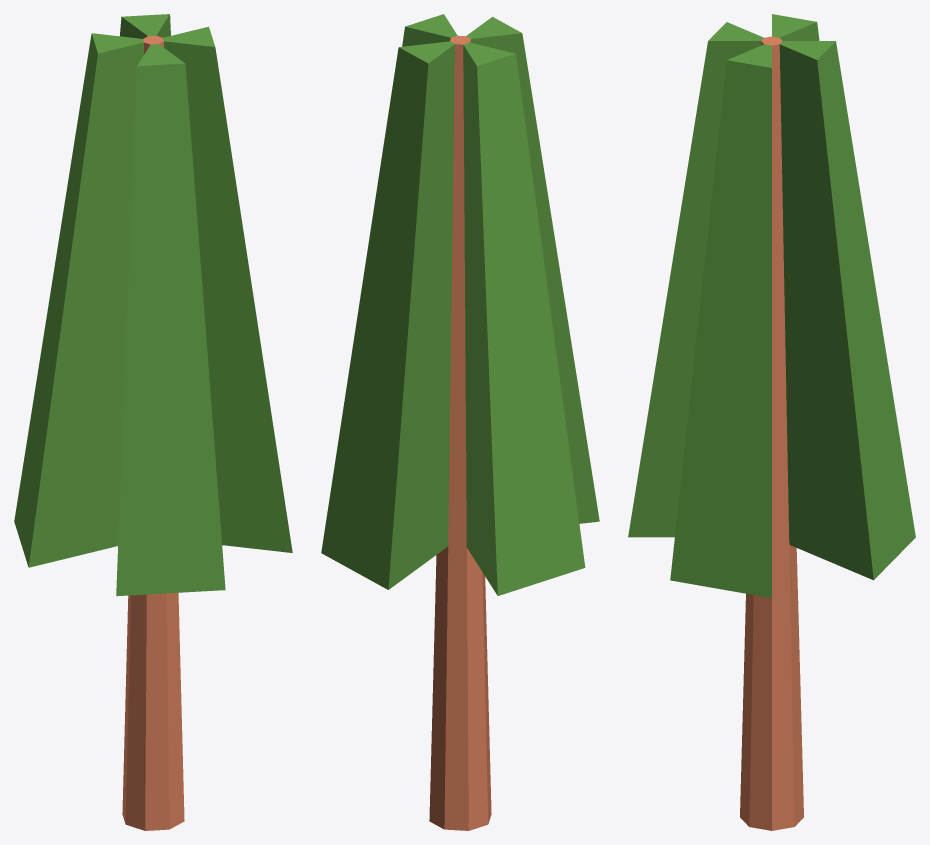
The model's file is Tree_28_summer.fbx.
The picture shows the model from 3 angles, left to right: view 1: azimuth 30°, elevation 25°; view 2: azimuth 150°, elevation 25°; view 3: azimuth 270°, elevation 25°; orthographic projection.
Visible parts, largest first — view 1: Tree_28_summer; view 2: Tree_28_summer; view 3: Tree_28_summer.
Part boxes in pixels (x1,y1,x2,y2): Tree_28_summer: [14, 14, 292, 830]; Tree_28_summer: [321, 14, 599, 830]; Tree_28_summer: [628, 14, 915, 830].
Bounding box in the file's own units: 98.97 × 294 × 98.97.
